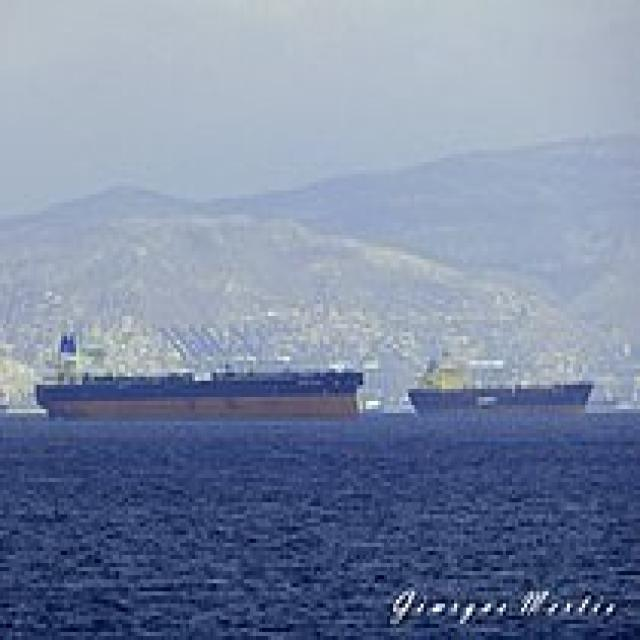Tanker: (30, 328, 362, 413), (402, 344, 592, 413)
